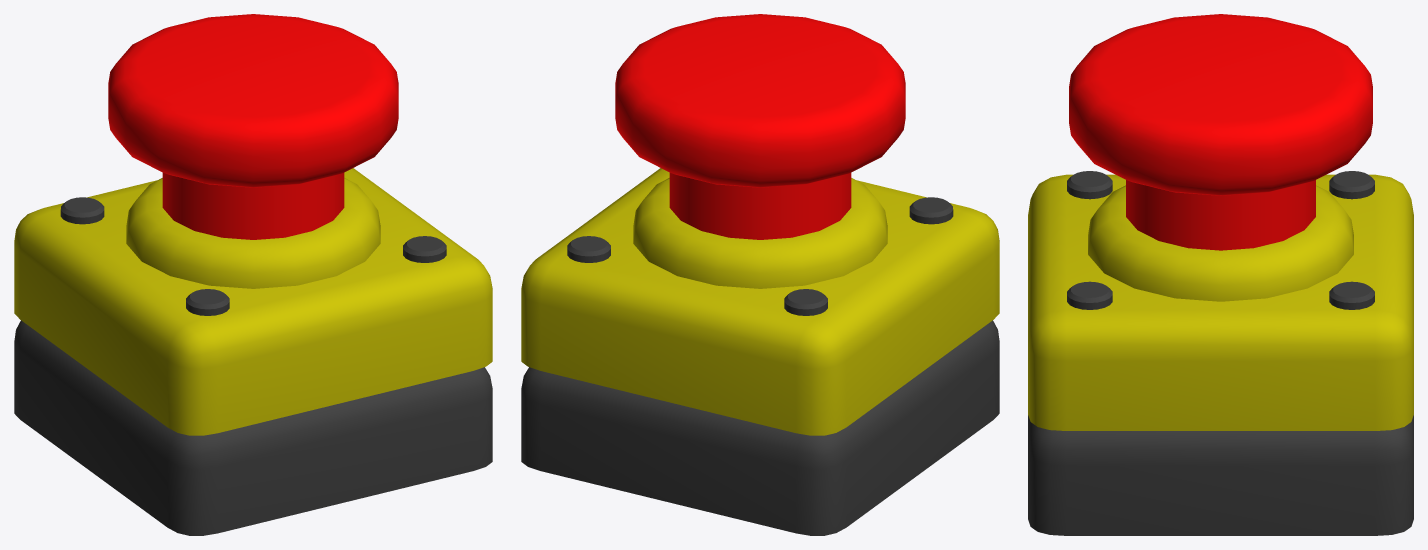
Rendered from button.glb.
3 renders of one model, left to right at view 1: azimuth 30°, elevation 25°; view 2: azimuth 150°, elevation 25°; view 3: azimuth 270°, elevation 25°, orthographic. The views are drawn at different scales.
Parts seen in each view (by area): view 1: ButtonTop, ButtonBase, ButtonPress, Cylinder001, ButtonMid, Cylinder003, Cylinder002, Cylinder005; view 2: ButtonTop, ButtonBase, ButtonPress, Cylinder001, ButtonMid, Cylinder002, Cylinder003, Cylinder004; view 3: ButtonTop, ButtonPress, ButtonBase, Cylinder001, ButtonMid, Cylinder002, Cylinder003, Cylinder004, Cylinder005.
Part boxes in pixels (left/top/right/bottom): ButtonTop: left=14, top=168, right=492, bottom=435; ButtonBase: left=14, top=320, right=492, bottom=535; ButtonPress: left=108, top=14, right=398, bottom=187; Cylinder001: left=126, top=178, right=380, bottom=288; ButtonMid: left=162, top=173, right=344, bottom=239; Cylinder003: left=60, top=197, right=104, bottom=224; Cylinder002: left=186, top=289, right=229, bottom=315; Cylinder005: left=403, top=236, right=446, bottom=262; ButtonTop: left=521, top=168, right=999, bottom=435; ButtonBase: left=521, top=320, right=999, bottom=535; ButtonPress: left=615, top=14, right=905, bottom=187; Cylinder001: left=633, top=178, right=887, bottom=288; ButtonMid: left=669, top=173, right=851, bottom=239; Cylinder002: left=909, top=197, right=953, bottom=224; Cylinder003: left=784, top=289, right=827, bottom=315; Cylinder004: left=567, top=236, right=610, bottom=262; ButtonTop: left=1028, top=174, right=1413, bottom=430; ButtonPress: left=1069, top=14, right=1372, bottom=195; ButtonBase: left=1028, top=415, right=1413, bottom=535; Cylinder001: left=1088, top=185, right=1353, bottom=301; ButtonMid: left=1126, top=180, right=1315, bottom=250; Cylinder002: left=1067, top=171, right=1112, bottom=199; Cylinder003: left=1329, top=171, right=1374, bottom=199; Cylinder004: left=1329, top=281, right=1374, bottom=309; Cylinder005: left=1067, top=281, right=1112, bottom=309.
Size of the model in its own units: 0.5 by 0.55 by 0.5.
